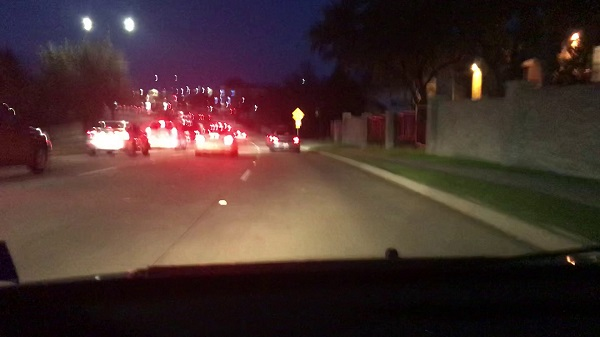car: (1, 100, 50, 175), (85, 119, 150, 156), (195, 128, 240, 158), (145, 119, 188, 149), (269, 129, 300, 152)
